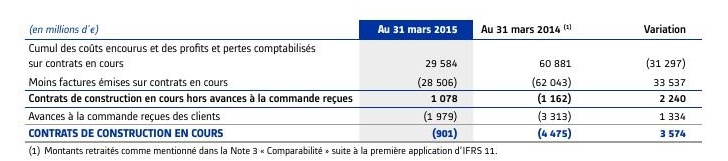table: (0, 0, 728, 161)
